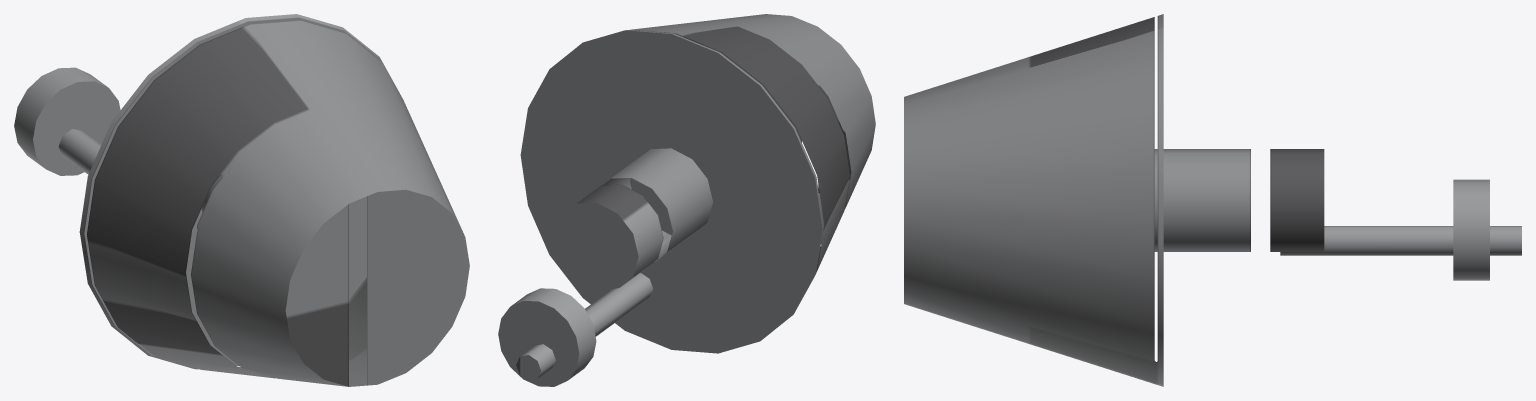
3 renders of one model, left to right at view 1: azimuth 30°, elevation 25°; view 2: azimuth 150°, elevation 25°; view 3: azimuth 270°, elevation 25°, orthographic. The views are drawn at different scales.
Bounding box in the file's own units: 0.3888 × 0.3888 × 0.6393.
